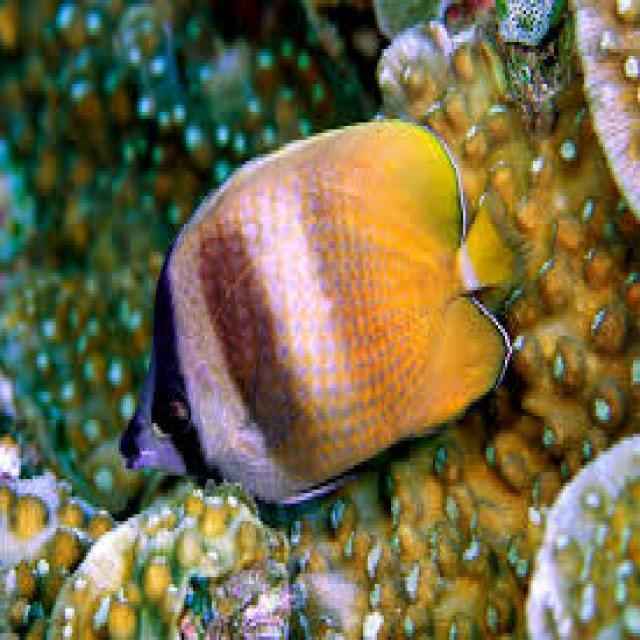ButterflyFish: (108, 103, 564, 520)
